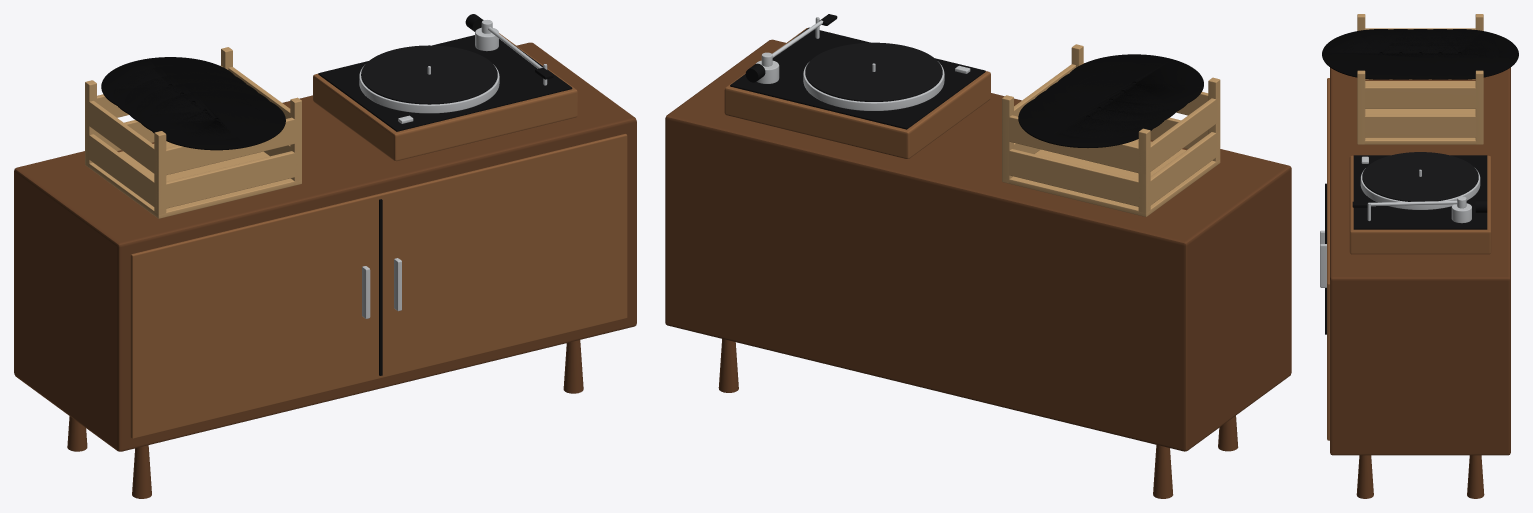
Rendered from RecordPlayer.glb.
3 renders of one model, left to right at view 1: azimuth 30°, elevation 25°; view 2: azimuth 150°, elevation 25°; view 3: azimuth 270°, elevation 25°, orthographic. The views are drawn at different scales.
Parts seen in each view (by area): view 1: Sideboard, Crate, Turntable, Platter, Record_1, Record_2, Record_5, Record_3, Record_4, Tonearm; view 2: Sideboard, Crate, Turntable, Platter, Record_1, Record_4, Record_5, Record_2, Record_3, Tonearm; view 3: Sideboard, Crate, Turntable, Platter, Record_1, Record_2, Record_5, Record_4, Record_3, Tonearm.
Boxes of the visible parts, x1=… form: Sideboard: x1=14, y1=42, x2=636, y2=498; Crate: x1=85, y1=47, x2=301, y2=218; Turntable: x1=313, y1=27, x2=577, y2=161; Platter: x1=359, y1=45, x2=499, y2=113; Record_1: x1=148, y1=91, x2=285, y2=150; Record_2: x1=136, y1=82, x2=273, y2=140; Record_5: x1=101, y1=57, x2=239, y2=113; Record_3: x1=124, y1=74, x2=260, y2=131; Record_4: x1=113, y1=65, x2=250, y2=123; Tonearm: x1=465, y1=14, x2=553, y2=79; Sideboard: x1=665, y1=39, x2=1291, y2=498; Crate: x1=1002, y1=44, x2=1220, y2=216; Turntable: x1=724, y1=17, x2=990, y2=158; Platter: x1=803, y1=42, x2=944, y2=110; Record_1: x1=1065, y1=54, x2=1203, y2=112; Record_4: x1=1030, y1=80, x2=1168, y2=138; Record_5: x1=1018, y1=92, x2=1156, y2=147; Record_2: x1=1053, y1=63, x2=1191, y2=121; Record_3: x1=1042, y1=71, x2=1178, y2=129; Tonearm: x1=745, y1=14, x2=837, y2=82; Sideboard: x1=1320, y1=67, x2=1510, y2=498; Crate: x1=1357, y1=14, x2=1483, y2=144; Turntable: x1=1349, y1=155, x2=1491, y2=254; Platter: x1=1360, y1=152, x2=1480, y2=209; Record_1: x1=1322, y1=29, x2=1439, y2=79; Record_2: x1=1342, y1=29, x2=1459, y2=79; Record_5: x1=1401, y1=29, x2=1518, y2=79; Record_4: x1=1382, y1=29, x2=1498, y2=79; Record_3: x1=1362, y1=29, x2=1479, y2=79; Tonearm: x1=1352, y1=196, x2=1487, y2=212.
Bounding box in the file's own units: 1.3 × 0.86 × 0.505.
